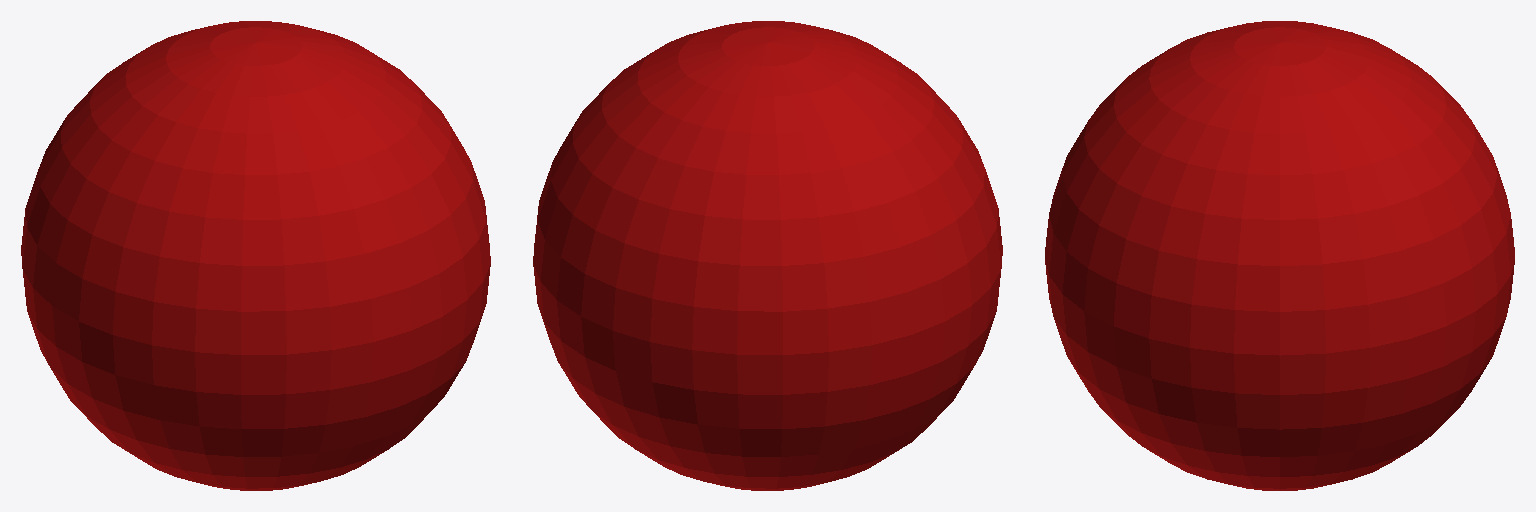
Rendered from Robot13.obj.
The picture shows the model from 3 angles: view 1: azimuth 30°, elevation 25°; view 2: azimuth 150°, elevation 25°; view 3: azimuth 270°, elevation 25°; orthographic projection.
Visible parts, largest first — view 1: 球; view 2: 球; view 3: 球.
Part boxes in pixels (x1,y1,x2,y2): 球: (21,21,490,490); 球: (533,21,1002,490); 球: (1045,21,1514,490).
Bounding box in the file's own units: 0.6 × 0.6 × 0.6.